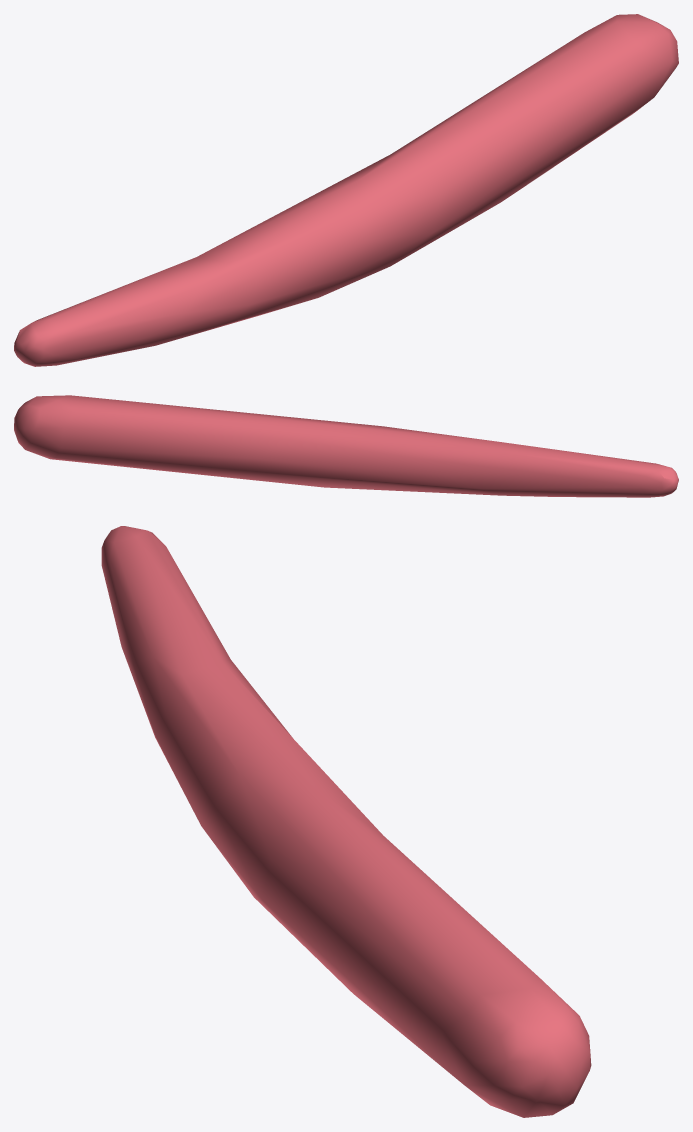
Rendered from fma8664_fj6104.glb.
3 views of the same model, one above another, from view 1: azimuth 30°, elevation 25°; view 2: azimuth 150°, elevation 25°; view 3: azimuth 270°, elevation 25° (orthographic). The views are drawn at different scales.
Visible parts, largest first — view 1: FMA8664_FJ6104; view 2: FMA8664_FJ6104; view 3: FMA8664_FJ6104.
Part boxes in pixels (left/top/right/bottom): FMA8664_FJ6104: left=14, top=14, right=678, bottom=366; FMA8664_FJ6104: left=14, top=395, right=678, bottom=497; FMA8664_FJ6104: left=101, top=526, right=591, bottom=1117.
Bounding box in the file's own units: 0.0392 × 0.00473 × 0.0149.
